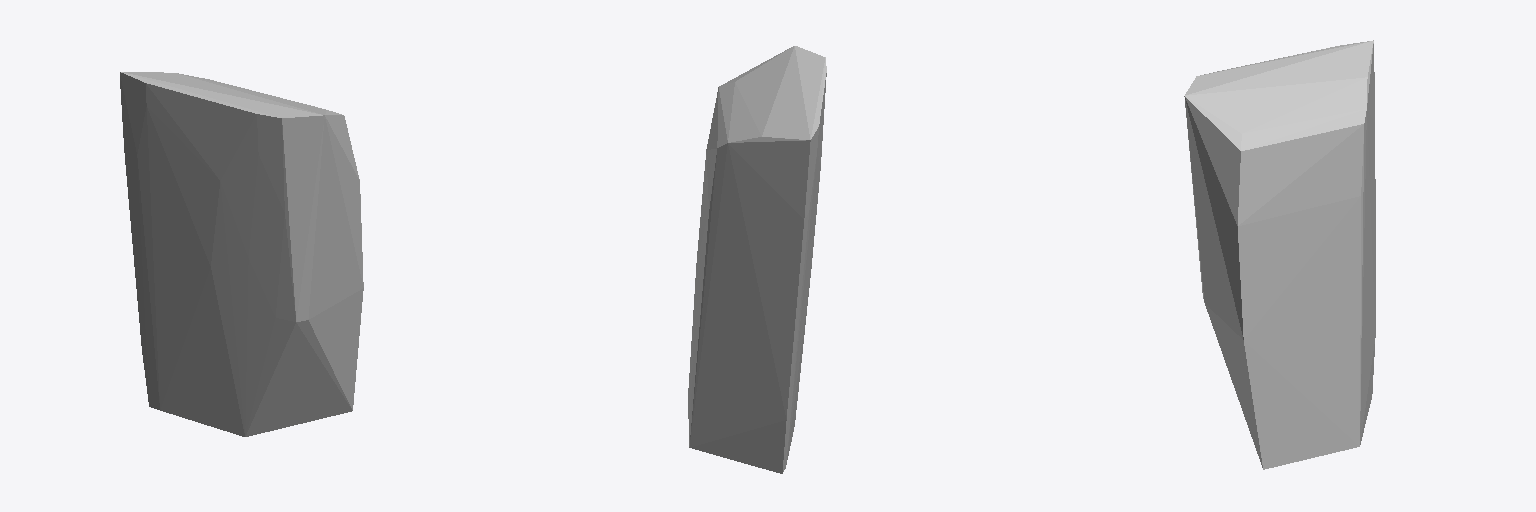
Rendered from trash_bin_collision_39.obj.
3 renders of one model, left to right at view 1: azimuth 30°, elevation 25°; view 2: azimuth 150°, elevation 25°; view 3: azimuth 270°, elevation 25°, orthographic.
Size of the model in its own units: 0.0357 by 0.0656 by 0.033.